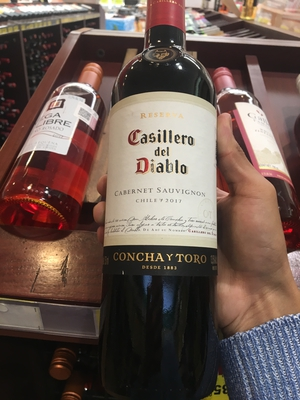casillero del diablo cabernet sauvignon: (103, 8, 222, 384)
